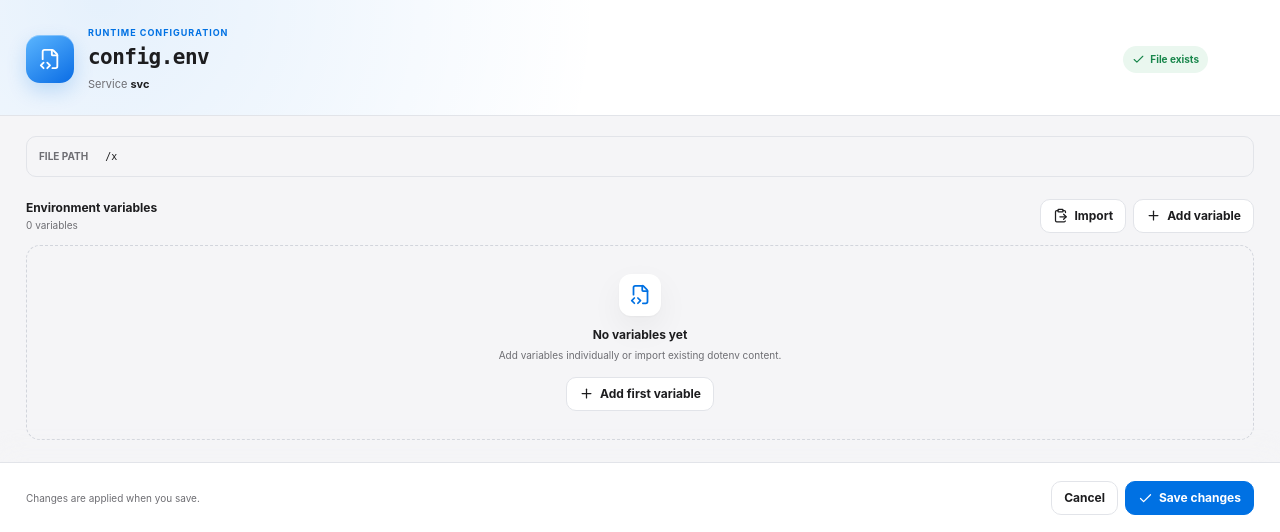
it: Env modal (row editor) › adding a variable creates a new row
What coordinates should you click on to do the following:
click the button "Add variable"
I would click on:
 (1194, 216)
Its box is [1133,198,1254,232].
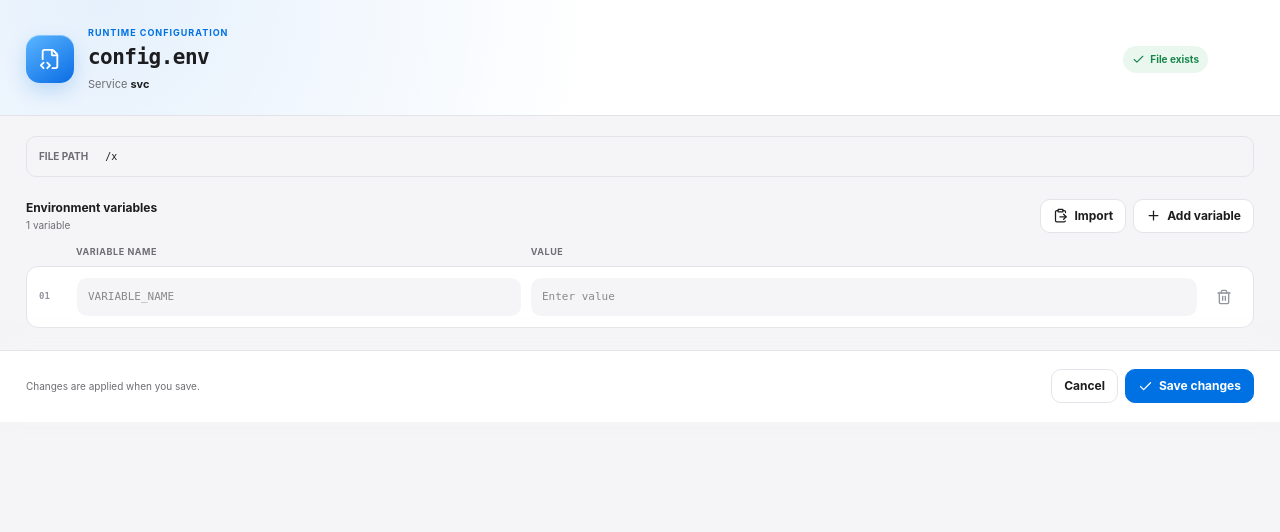
Now the field named "key 0" is shown, box [77,278,521,316]
